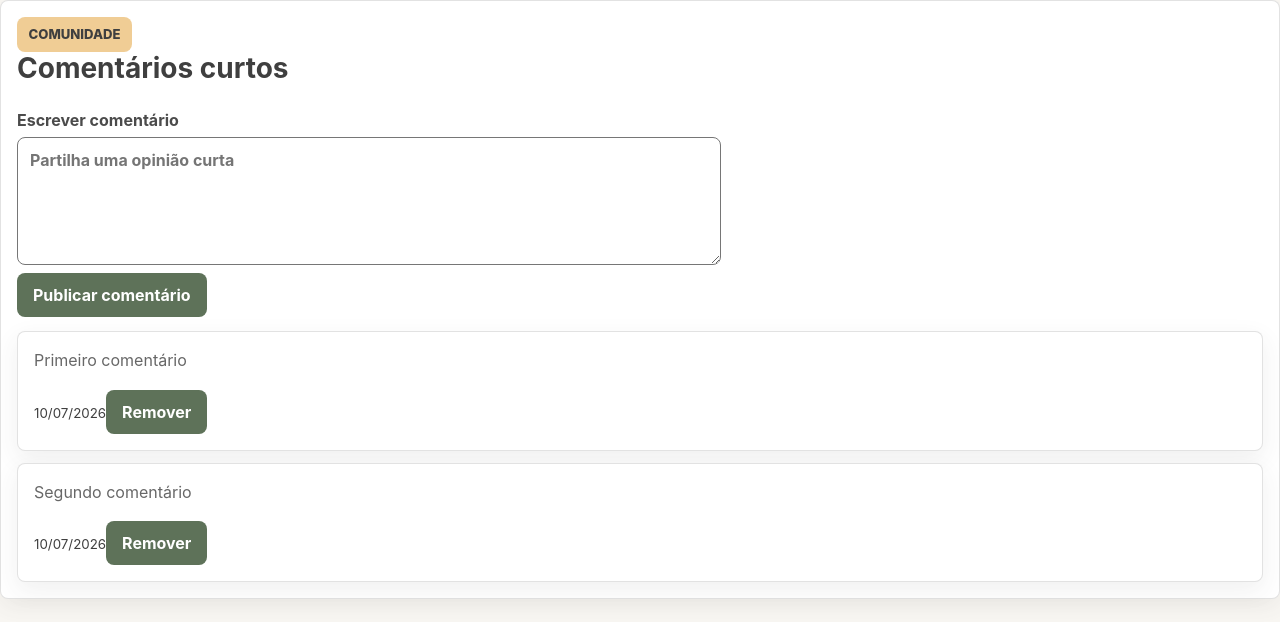
it: CommentsPanel › serializa remoções e mantém busy state por linha
Click the button "Remover" below "Primeiro comentário" at {"x": 157, "y": 412}, box [106, 390, 207, 434]
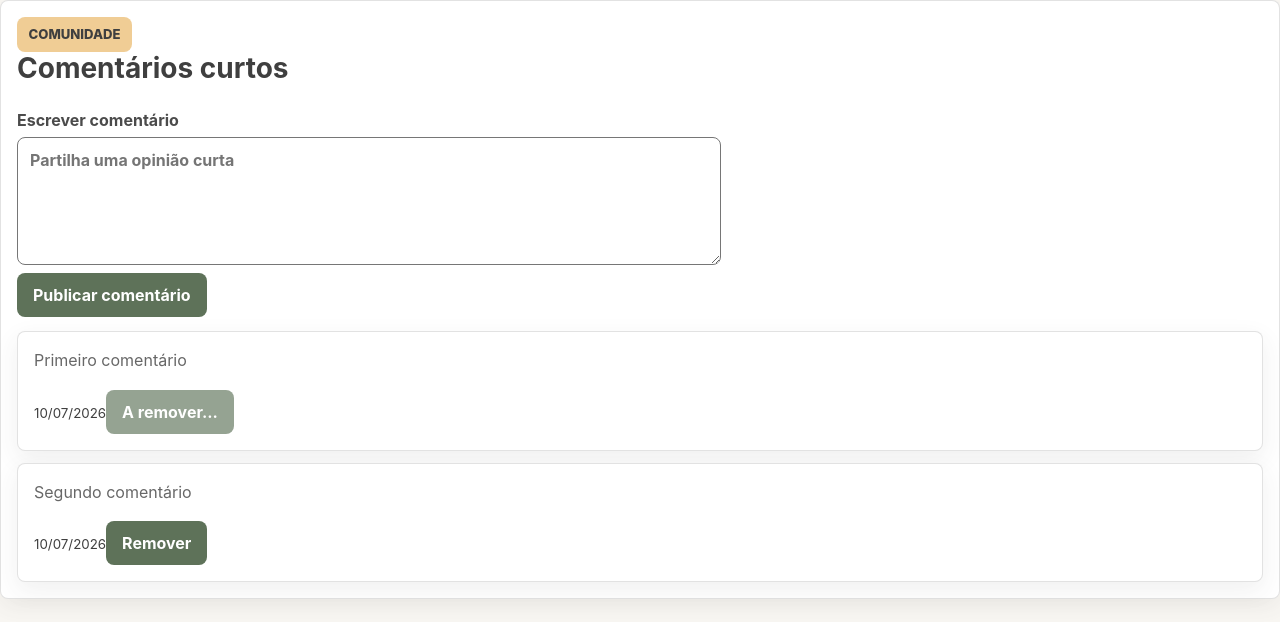
Click the button "Remover" at {"x": 157, "y": 543}, box [106, 521, 207, 565]
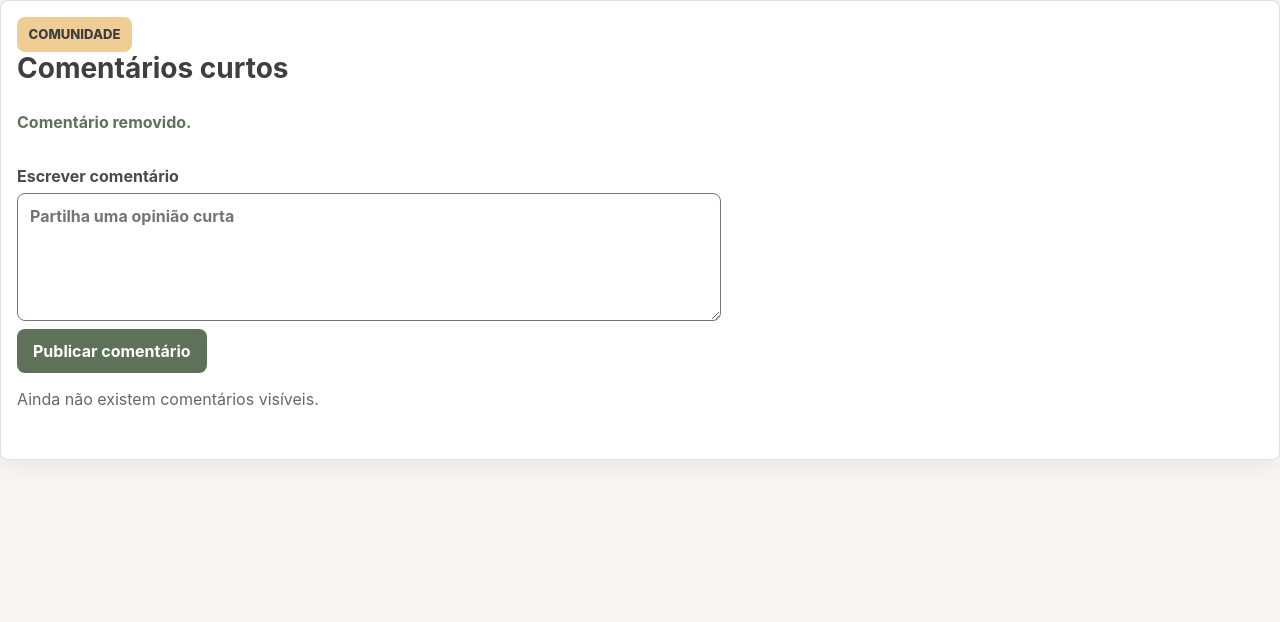
Now the text "Ainda não existem comentários visíveis." is shown, box [17, 389, 319, 409]
